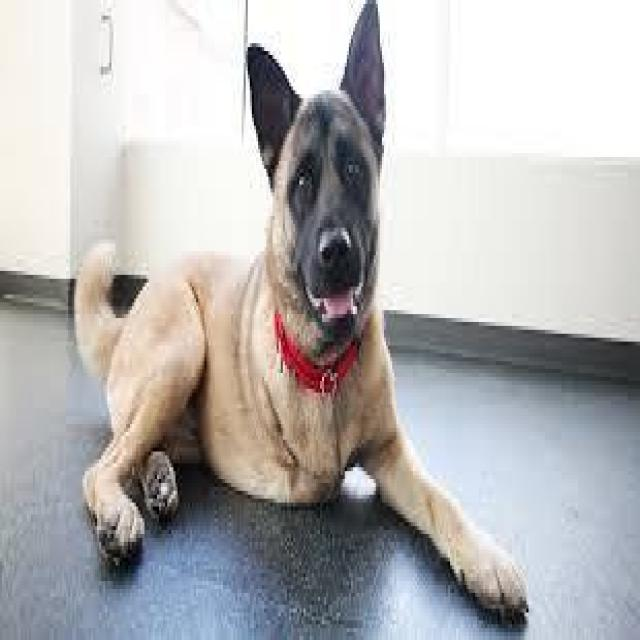Dog: (54, 8, 536, 640)
